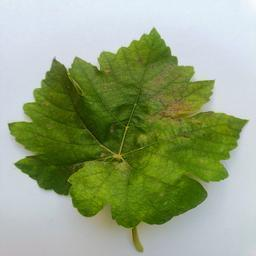Powdery-Mildew: (155, 95, 193, 128), (148, 63, 187, 92), (76, 173, 106, 205), (108, 148, 135, 180), (150, 165, 182, 192), (102, 65, 119, 81), (138, 133, 154, 149)
